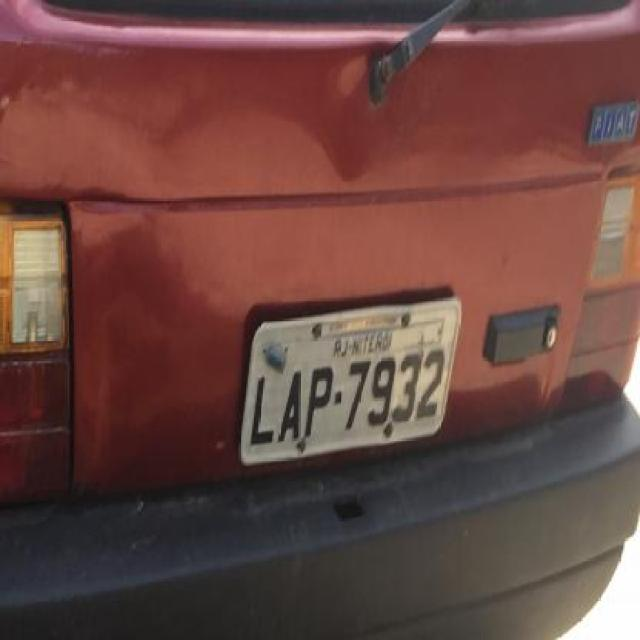old_plate: (232, 284, 468, 472)
